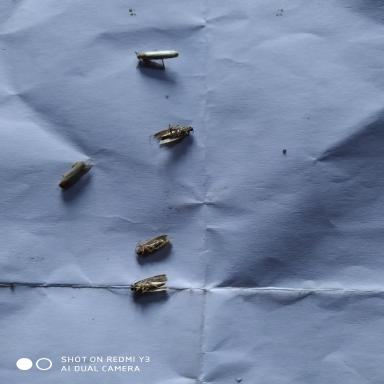pbw: (49, 156, 101, 194), (124, 227, 178, 261), (123, 268, 175, 299), (146, 120, 192, 151), (129, 46, 187, 70)
